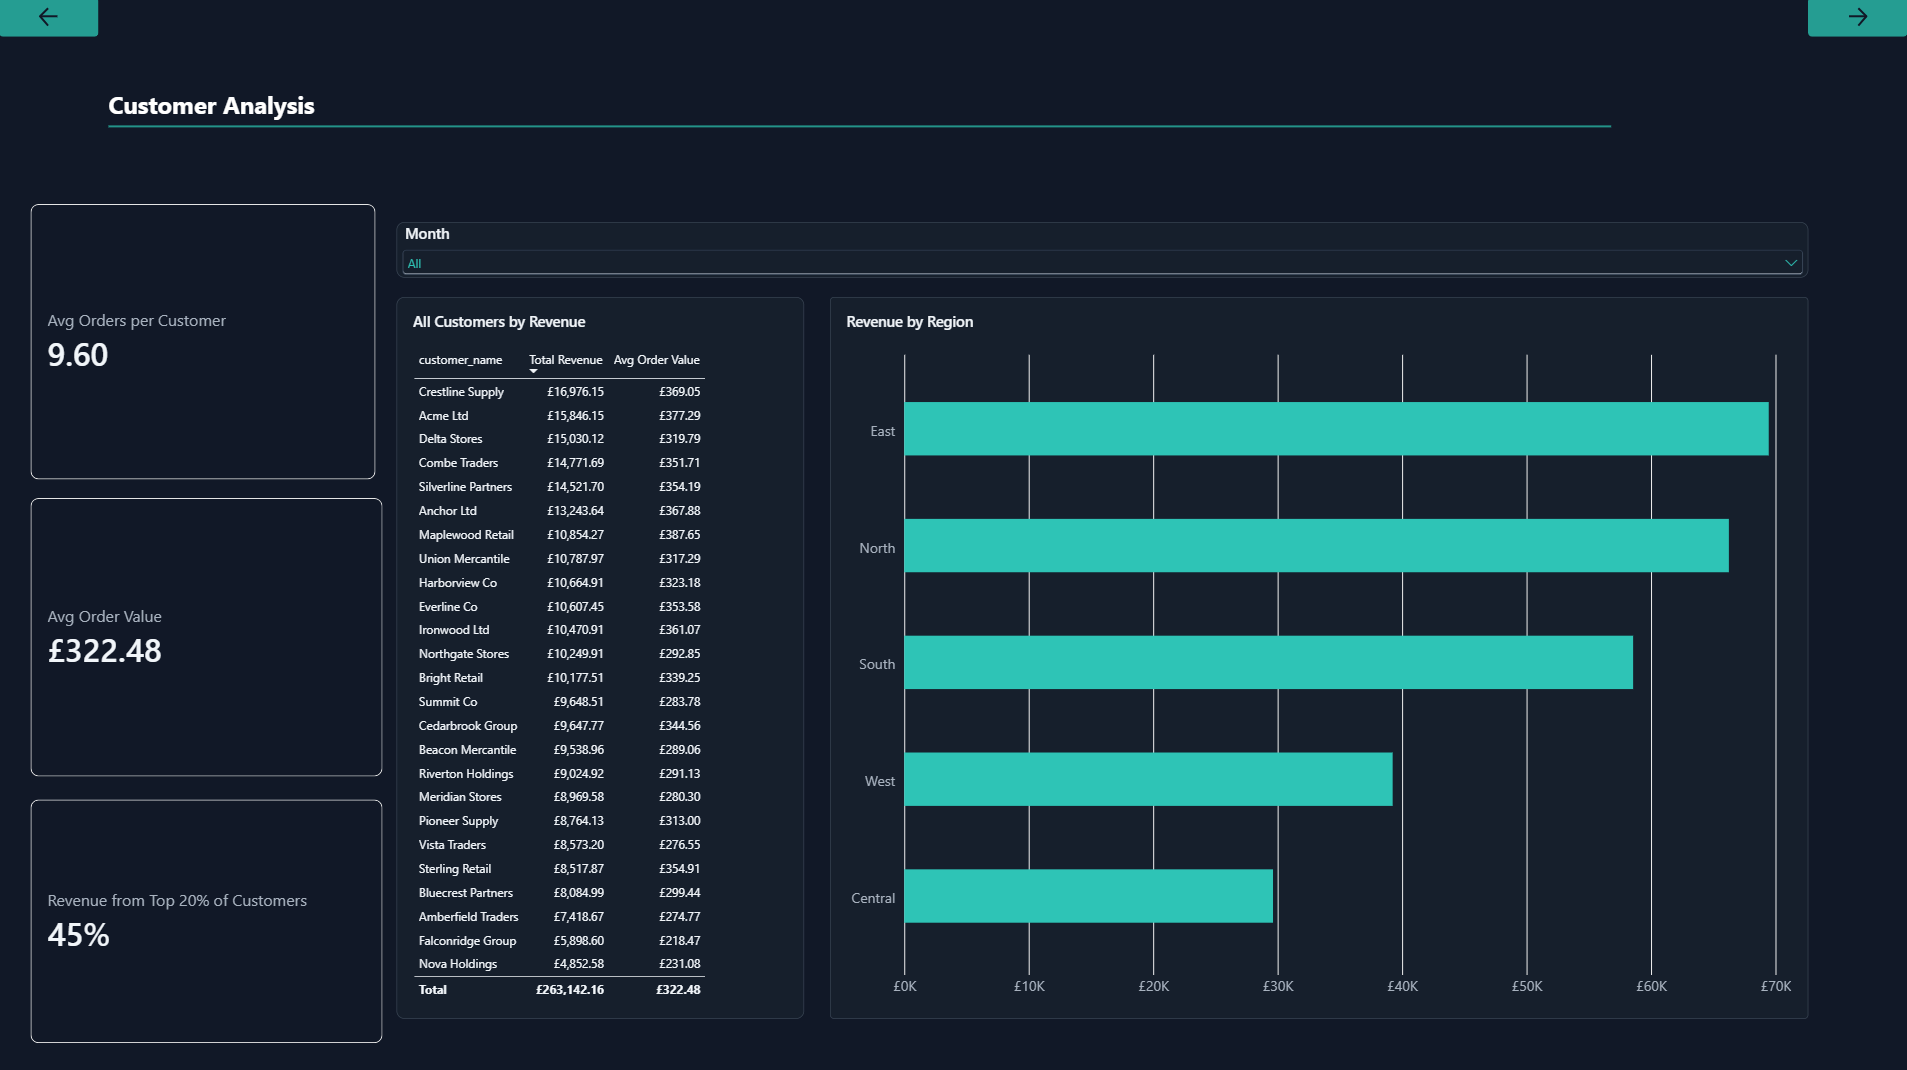

The dashboard page shown, as its layout file describes it:
{"tool":"powerbi","page":{"name":"Customer Analysis","canvas":[1920,1080],"ordinal":2},"visuals":[{"type":"tableEx","title":"All Customers by Revenue","fields":{"Values":["public customers.customer_name","public order_items.Total Revenue","public orders.Avg Order Value"]},"box":[400,301.4,410,725.7],"z":0},{"type":"cardVisual","fields":{"Data":["public orders.Order Frequency"]},"box":[31.4,208.6,347.1,277.1],"z":1000},{"type":"cardVisual","fields":{"Data":["public orders.Avg Order Value"]},"box":[31.4,504.3,354.3,280],"z":2000},{"type":"barChart","title":"Revenue by Region","fields":{"Category":["public customers.region"],"Y":["public order_items.Total Revenue"]},"box":[835.7,301.4,984.3,725.7],"z":3000},{"type":"textbox","box":[110,92,404,38],"z":4000},{"type":"actionButton","box":[1820,0,100,40],"z":5000},{"type":"actionButton","box":[0,0,100,40],"z":6000},{"type":"shape","box":[110,110,1511.4,40],"z":7000},{"type":"slicer","fields":{"Values":["DateTable.Month"]},"box":[400,225.7,1420,55.7],"z":8000},{"type":"cardVisual","fields":{"Data":["public customers.Top20PctRevenueShare"]},"box":[31.4,807.1,354.3,245.7],"z":9000}]}

Visuals, with their boxes in screenshot pixels (x1, y1, x2, y2), scaled from the page's 1920x1080 canvas onto the 1907x1070 screenshot:
"All Customers by Revenue" tableEx: Rect(397, 299, 805, 1018)
cardVisual - public orders.Order Frequency: Rect(31, 207, 376, 481)
cardVisual - public orders.Avg Order Value: Rect(31, 500, 383, 777)
"Revenue by Region" barChart: Rect(830, 299, 1808, 1018)
textbox: Rect(109, 91, 511, 129)
actionButton: Rect(1808, 0, 1906, 40)
actionButton: Rect(0, 0, 99, 40)
shape: Rect(109, 109, 1610, 149)
slicer - DateTable.Month: Rect(397, 224, 1808, 279)
cardVisual - public customers.Top20PctRevenueShare: Rect(31, 800, 383, 1043)
